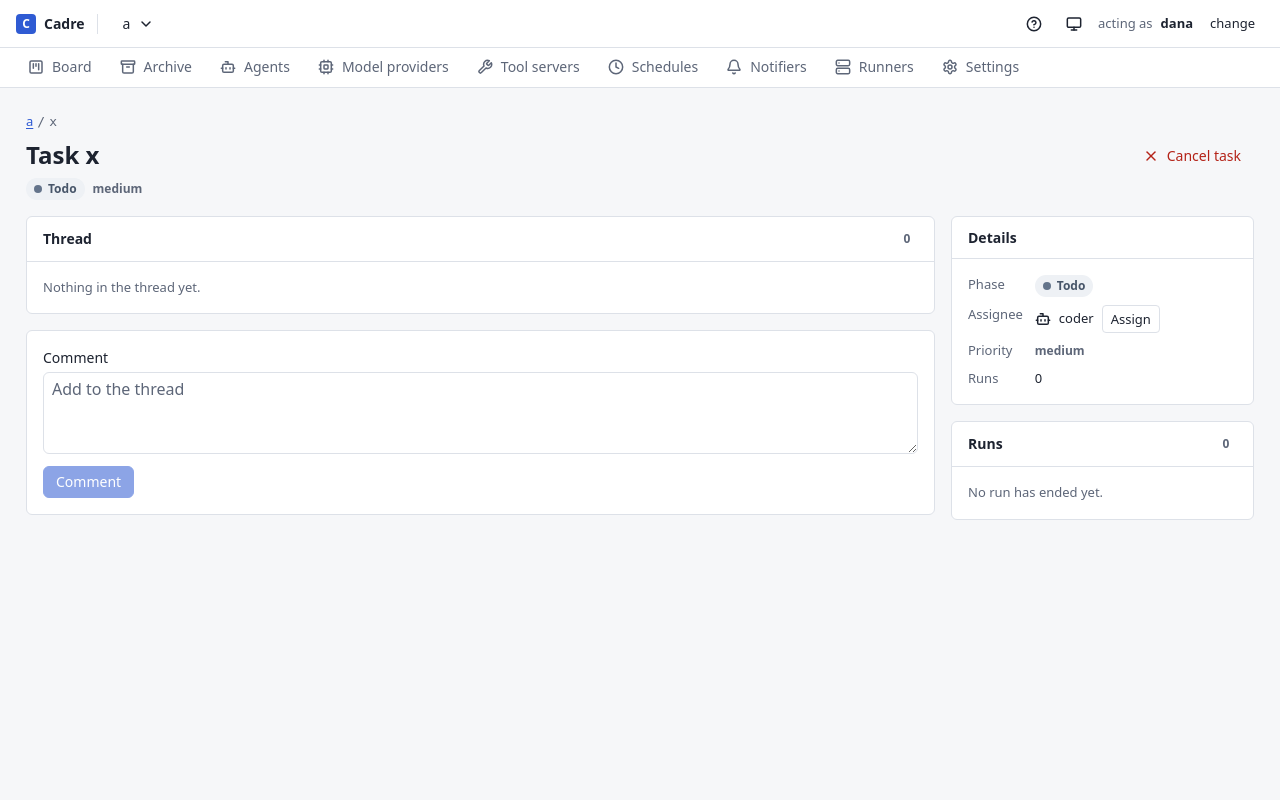
Assign › shows the server's refusal and reads the task again on a conflict
This screenshot has width=1280, height=800.
Click the button "Assign" at (1131, 319), box [1102,305,1160,333]
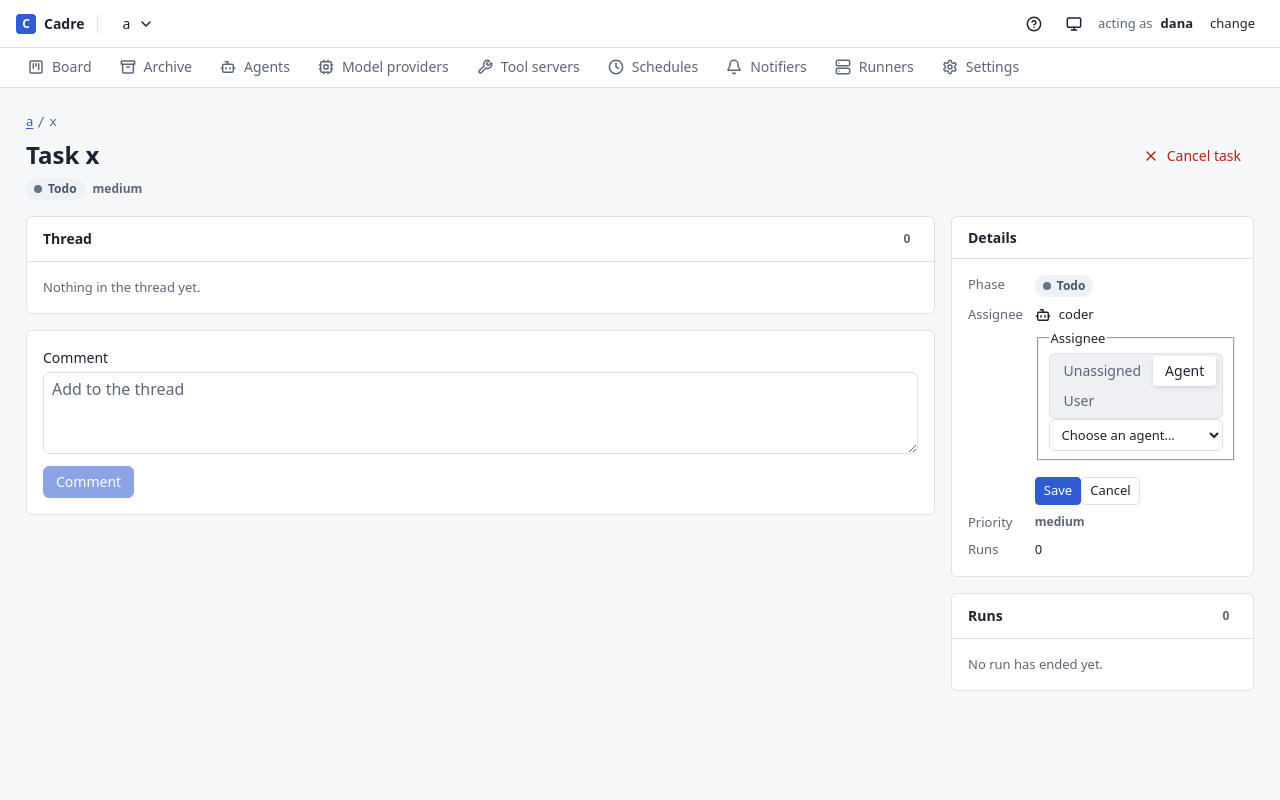
Click the radio button labelled "Unassigned" at (1102, 370), box [1064,361,1141,380]
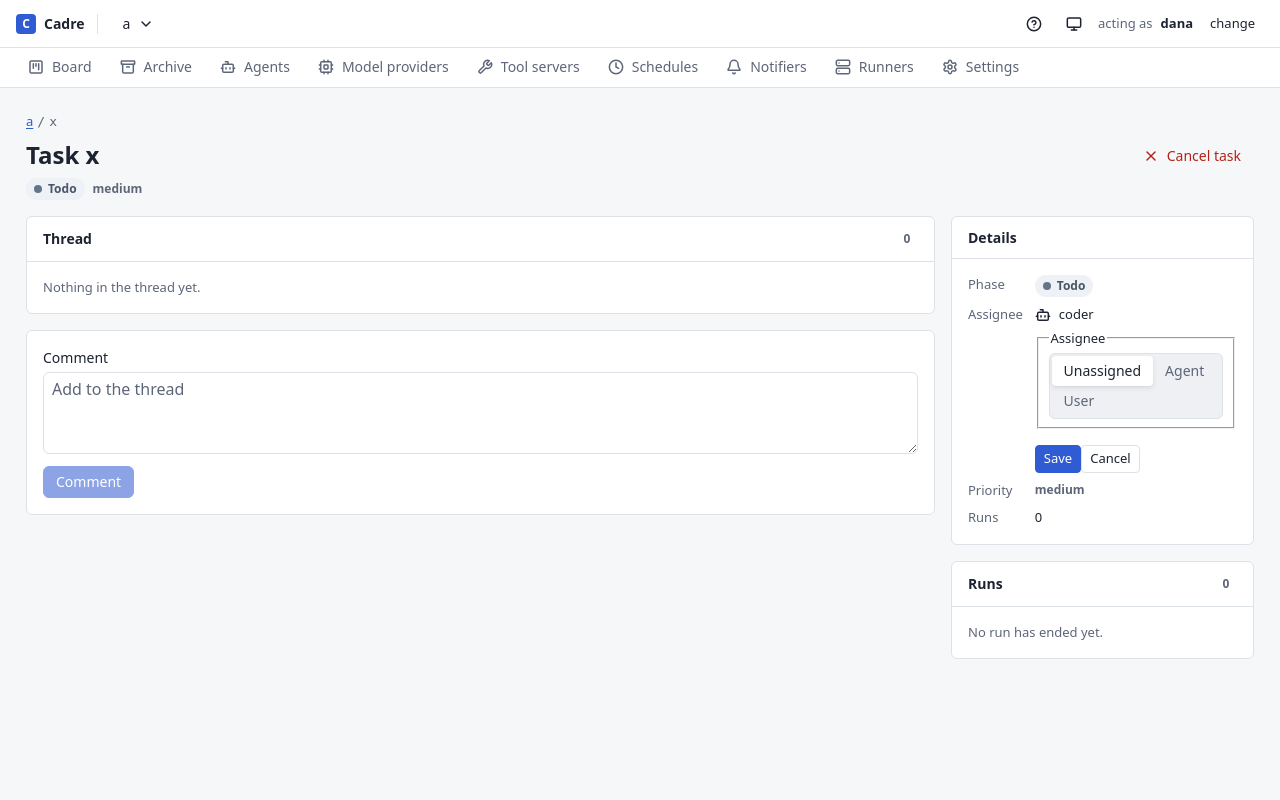
Click the button "Save" at (1058, 459), box [1035,445,1081,473]
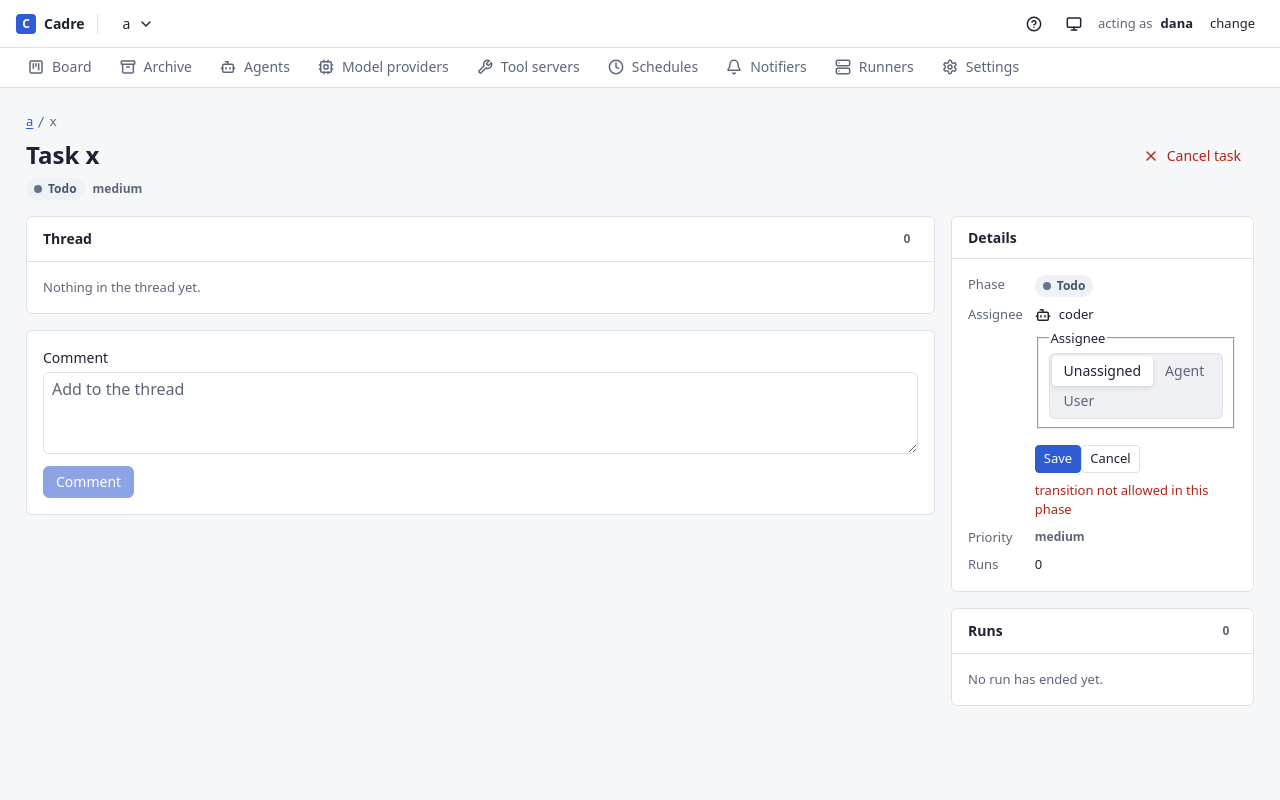
Check: the element named "Assign the task" is shown, box [1035,328,1237,473]
Check: the message reads "transition not allowed in this phase", box [1035,481,1208,518]
